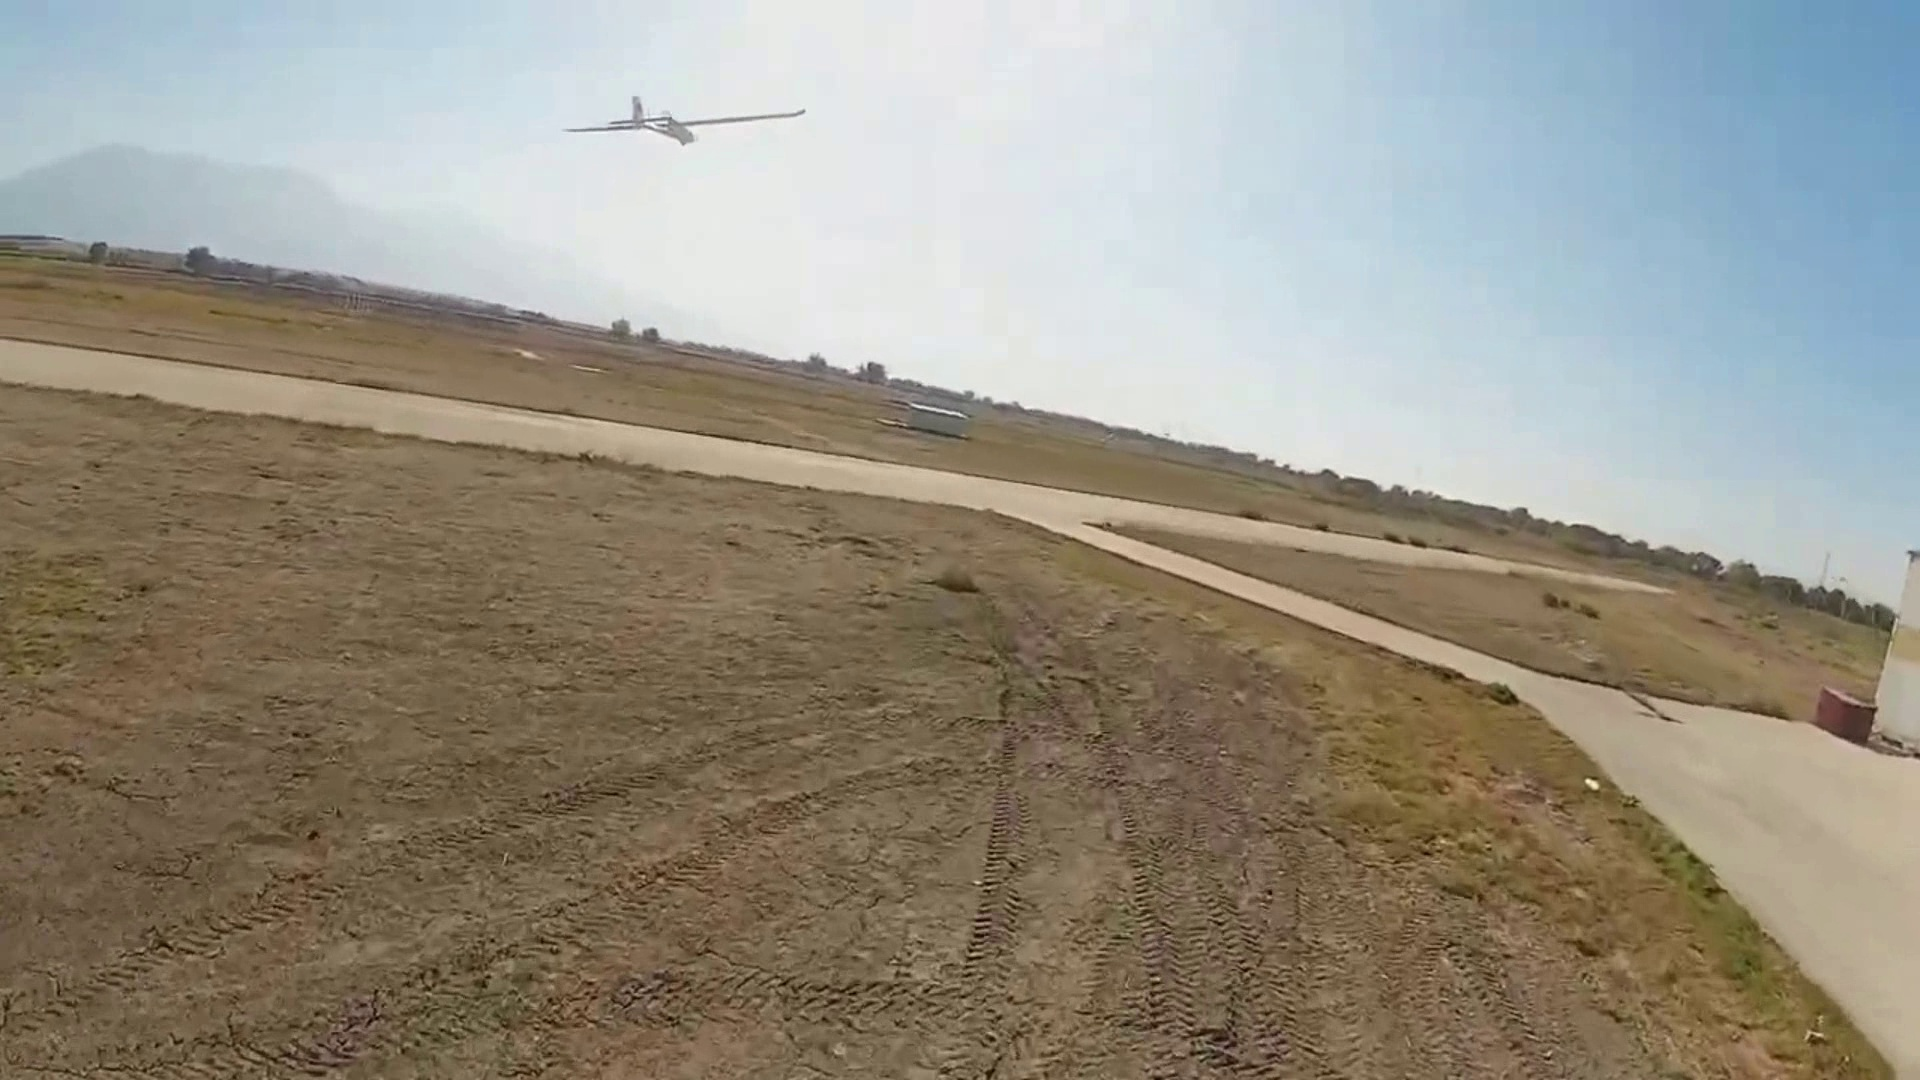airplane: (563, 98, 806, 148)
